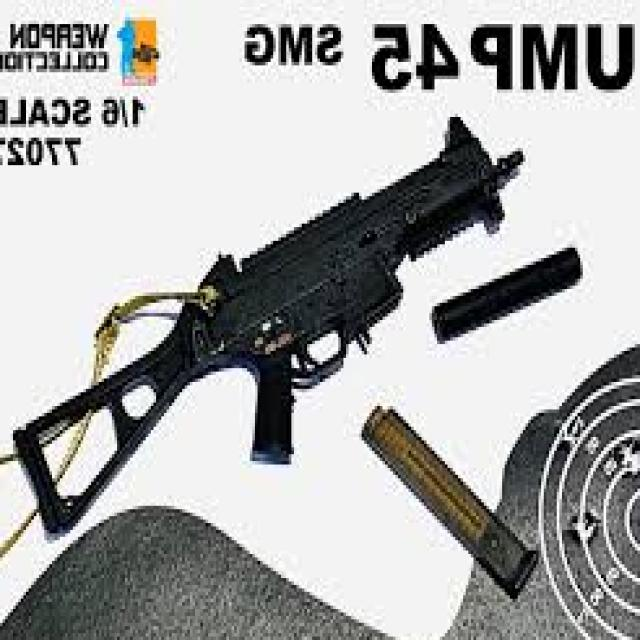Gun: (0, 92, 532, 573)
